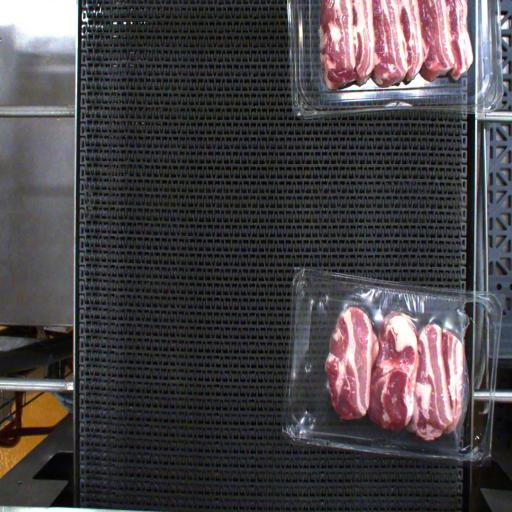unsealed: (294, 278, 488, 456)
